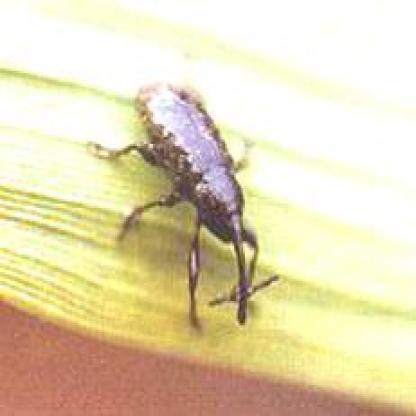rice-bug: (126, 81, 262, 326)
